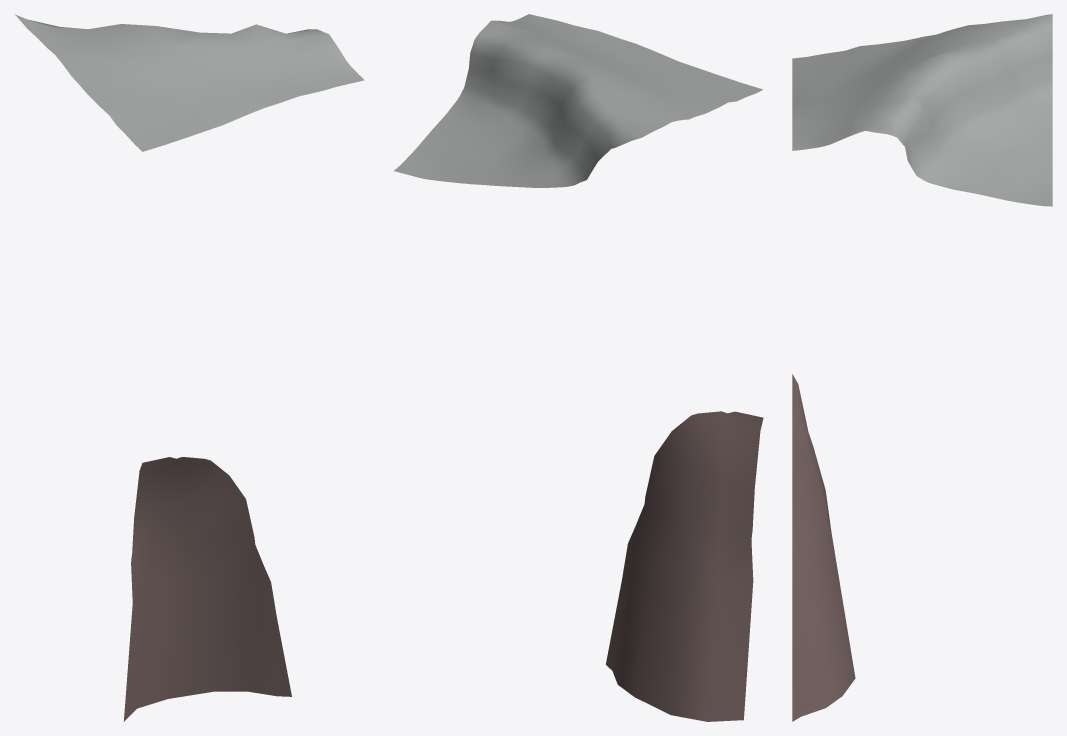
The picture shows the model from 3 angles, left to right: view 1: azimuth 30°, elevation 25°; view 2: azimuth 150°, elevation 25°; view 3: azimuth 270°, elevation 25°; orthographic projection. The views are drawn at different scales.
Visible parts, largest first — view 1: G:\FFXIV-MapTools\exports\u5f1\bg\ex4\04_uvs_u5\fld\u5f1\bgp (×3); view 2: G:\FFXIV-MapTools\exports\u5f1\bg\ex4\04_uvs_u5\fld\u5f1\bgp (×10); view 3: G:\FFXIV-MapTools\exports\u5f1\bg\ex4\04_uvs_u5\fld\u5f1\bgp (×9).
Boxes of the visible parts, x1,y1,x2,y2 form: G:\FFXIV-MapTools\exports\u5f1\bg\ex4\04_uvs_u5\fld\u5f1\bgp (×3): (17,17,364,721); G:\FFXIV-MapTools\exports\u5f1\bg\ex4\04_uvs_u5\fld\u5f1\bgp (×10): (394,14,763,721); G:\FFXIV-MapTools\exports\u5f1\bg\ex4\04_uvs_u5\fld\u5f1\bgp (×9): (792,14,1052,721).
Size of the model in its own units: 128 by 348 by 128.
